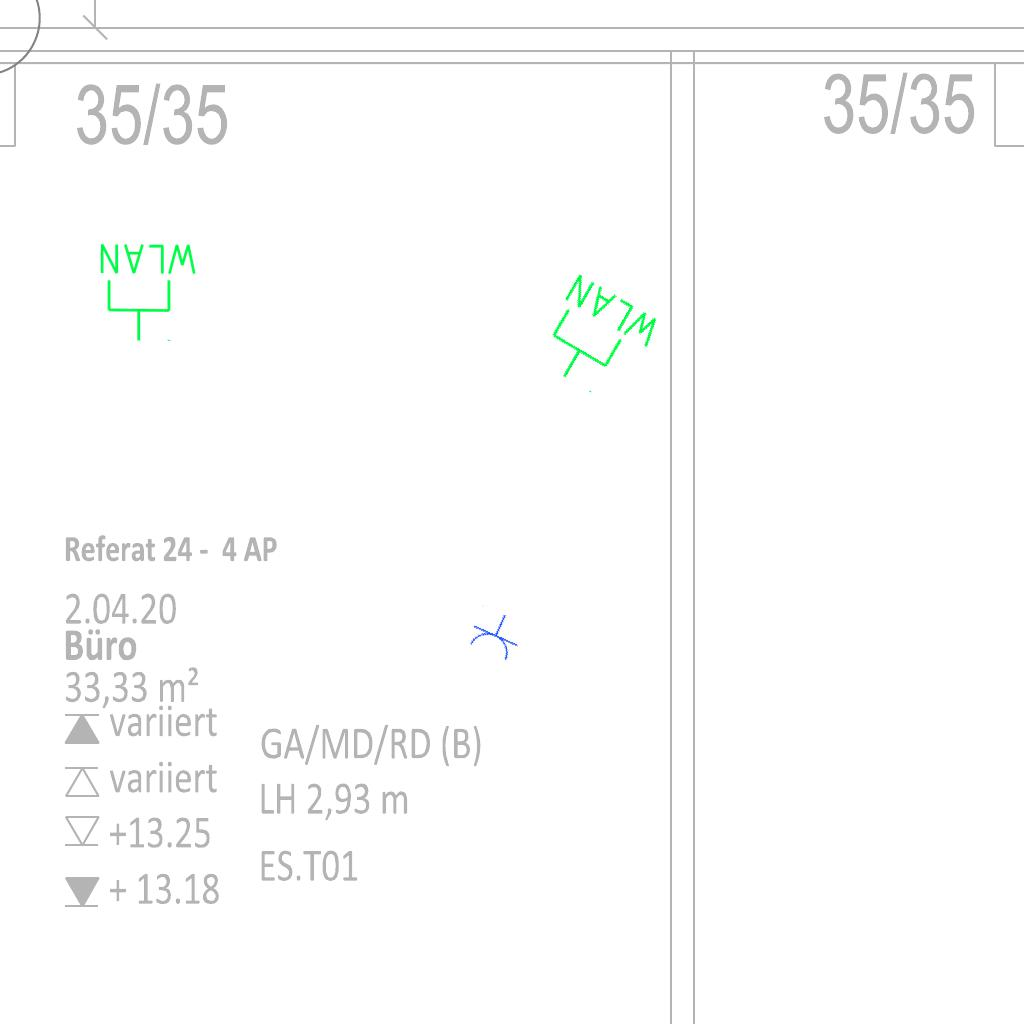Schukosteckdose_einfach: (464, 604, 528, 665)
WLAN: (525, 268, 669, 411), (96, 240, 201, 344)
